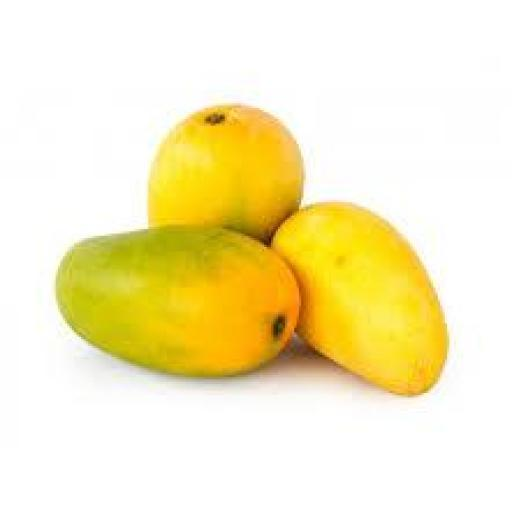mango: (56, 227, 298, 377), (274, 203, 447, 395), (149, 106, 303, 240)
